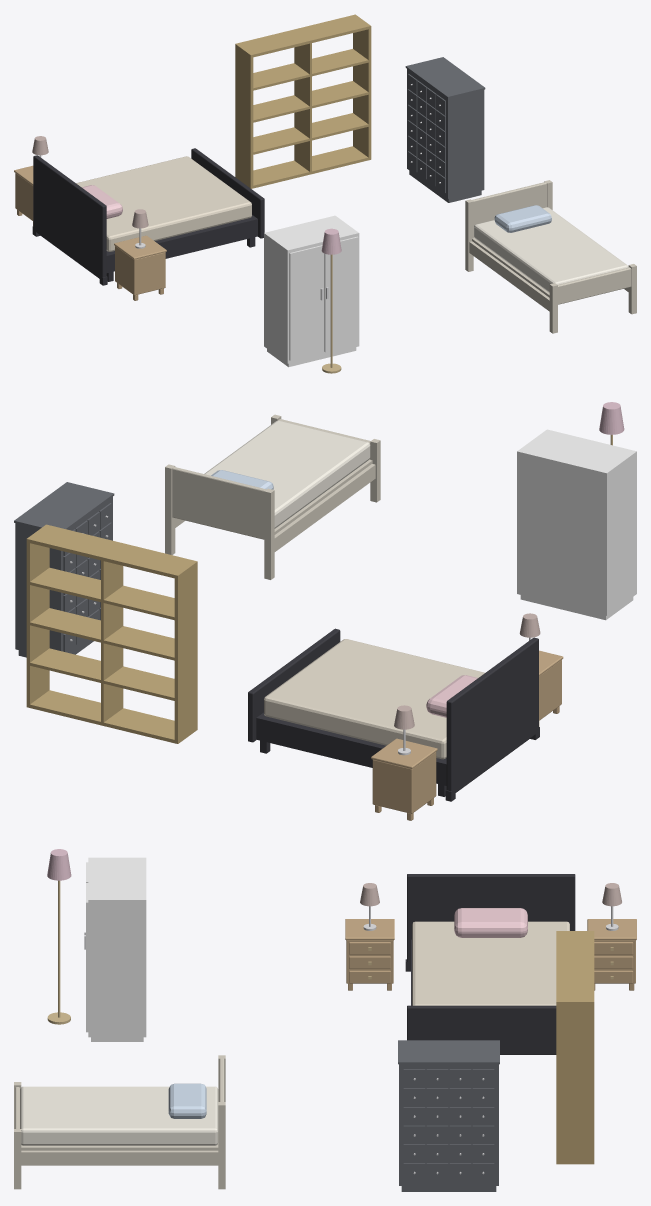
File: agent_scene.glb
3 renders of one model, top to bottom at view 1: azimuth 30°, elevation 25°; view 2: azimuth 150°, elevation 25°; view 3: azimuth 270°, elevation 25°, orthographic. The views are drawn at different scales.
Parts seen in each view (by area): view 1: db_mattress, lb_mattress, db_headboard, mc_body, dr_body, mc_doorL, mc_doorR, sh_sideL, sh_top, db_base, sh_sideR, sh_bot (+15 smaller); view 2: mc_body, db_mattress, db_headboard, lb_mattress, lb_headboard, sh_sideL, sh_top, db_base, sh_sideR, sh_bot, ns_body.001, dr_body (+15 smaller); view 3: db_mattress, lb_mattress, mc_body, db_headboard, sh_sideR, db_footboard, dr_body, lb_rail_r, sh_top, dr_top, db_pillow, lb_pillow (+14 smaller).
Boxes of the visible parts, <box> form: db_mattress: <box>76,156,251,251</box>; lb_mattress: <box>474,207,628,292</box>; db_headboard: <box>33,155,106,278</box>; mc_body: <box>264,215,359,363</box>; dr_body: <box>407,69,484,198</box>; mc_doorL: <box>289,245,323,360</box>; mc_doorR: <box>324,236,358,352</box>; sh_sideL: <box>235,43,253,188</box>; sh_top: <box>235,15,370,57</box>; db_base: <box>106,215,257,272</box>; sh_sideR: <box>353,14,371,160</box>; sh_bot: <box>235,146,371,188</box>; mc_body: <box>517,429,636,615</box>; db_mattress: <box>264,639,485,759</box>; db_headboard: <box>446,637,538,794</box>; lb_mattress: <box>204,420,370,528</box>; lb_headboard: <box>172,467,266,539</box>; sh_sideL: <box>174,561,197,743</box>; sh_top: <box>26,525,197,578</box>; db_base: <box>256,712,446,785</box>; sh_sideR: <box>26,524,49,707</box>; sh_bot: <box>30,690,197,743</box>; ns_body.001: <box>372,752,436,813</box>; dr_body: <box>15,496,112,653</box>; db_mattress: <box>412,921,569,1005</box>; lb_mattress: <box>20,1086,218,1145</box>; mc_body: <box>88,857,146,1037</box>; db_headboard: <box>407,874,575,965</box>; sh_sideR: <box>556,1000,594,1164</box>; db_footboard: <box>407,1005,556,1054</box>; dr_body: <box>399,1064,498,1185</box>; lb_rail_r: <box>21,1150,218,1165</box>; sh_top: <box>556,932,594,1005</box>; dr_top: <box>398,1040,499,1064</box>; db_pillow: <box>454,908,527,937</box>; lb_pillow: <box>168,1083,206,1118</box>.
Size of the model in its own units: 5.06 by 1.75 by 5.91.
